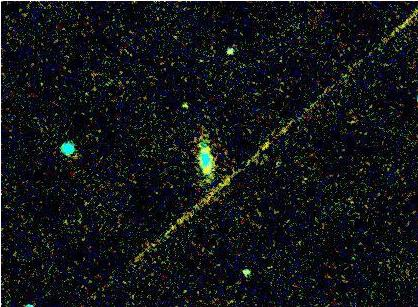star: (168, 89, 198, 119)
